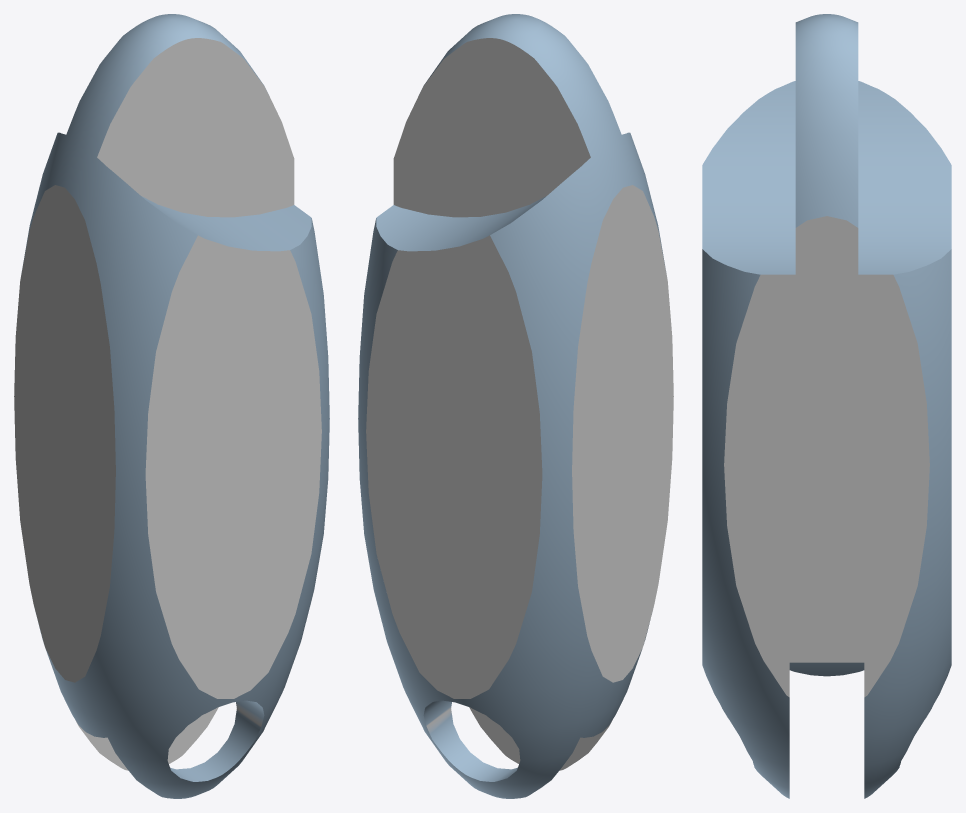
Rendered from phalange8x3.glb.
3 renders of one model, left to right at view 1: azimuth 30°, elevation 25°; view 2: azimuth 150°, elevation 25°; view 3: azimuth 270°, elevation 25°, orthographic.
Bounding box in the file's own units: 0.3 × 1.02 × 0.3.
